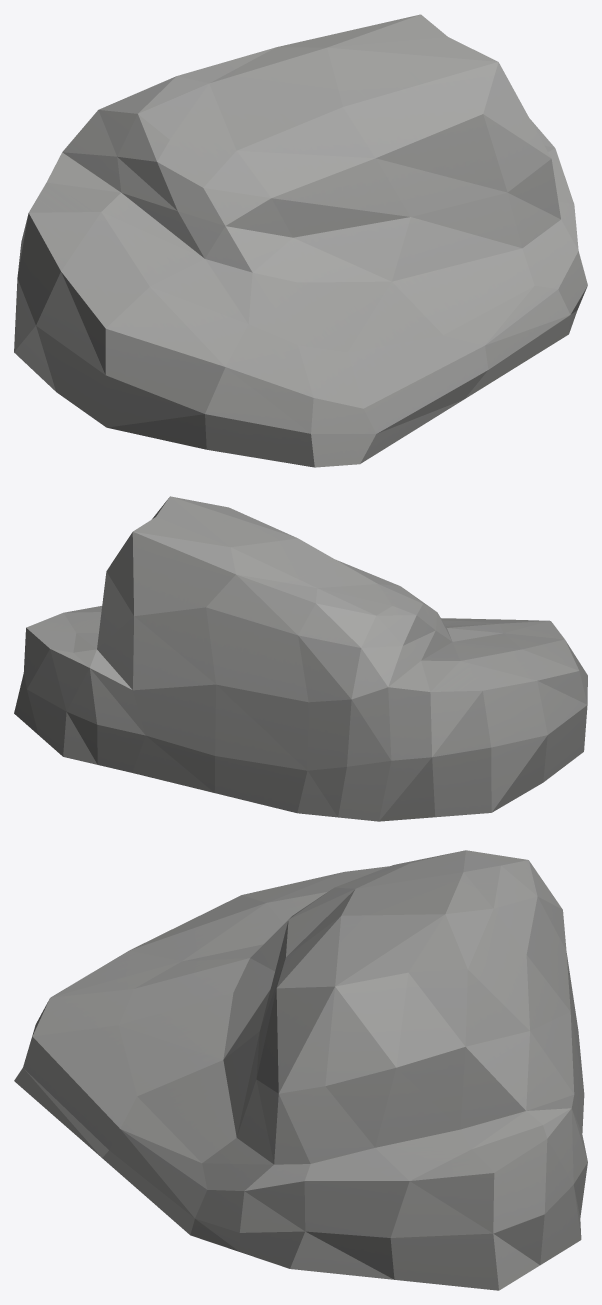
The model's file is Cavern_RockLrg-03.fbx.
The picture shows the model from 3 angles, top to bottom: view 1: azimuth 30°, elevation 25°; view 2: azimuth 150°, elevation 25°; view 3: azimuth 270°, elevation 25°; orthographic projection. The views are drawn at different scales.
Parts seen in each view (by area): view 1: Cavern_RockLrg-03; view 2: Cavern_RockLrg-03; view 3: Cavern_RockLrg-03.
Part boxes in pixels (box(x1,y1,x2,y2)): Cavern_RockLrg-03: box(14, 14, 587, 467); Cavern_RockLrg-03: box(14, 496, 587, 821); Cavern_RockLrg-03: box(14, 850, 587, 1290).
Size of the model in its own units: 622 by 247 by 505.
1 material, 1 textured.
